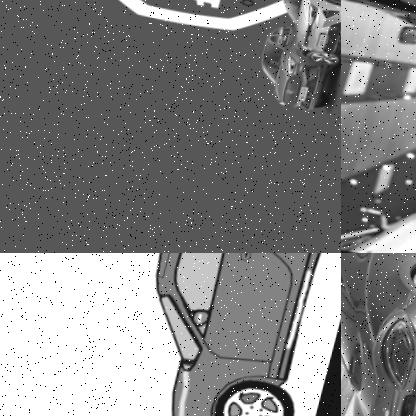car: (109, 253, 341, 416), (341, 253, 416, 416), (250, 38, 341, 111), (341, 176, 416, 253), (272, 0, 341, 54)
